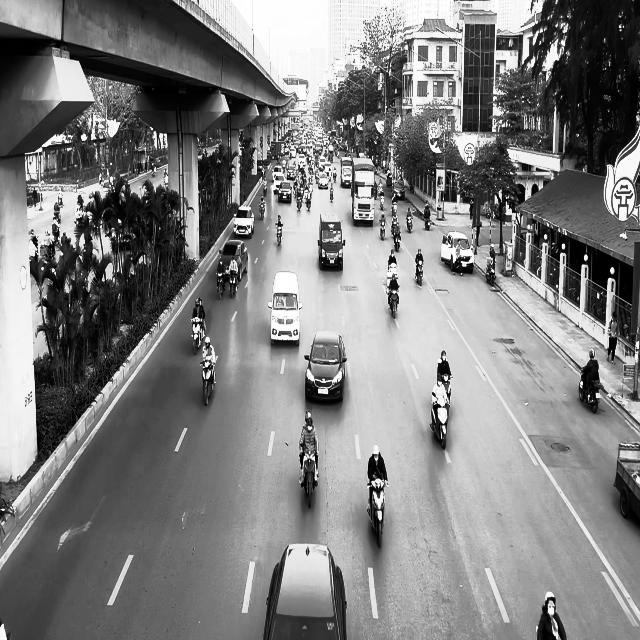bus: (351, 157, 375, 226)
car: (262, 542, 348, 640), (304, 331, 347, 402), (268, 271, 303, 346), (318, 213, 346, 271), (441, 231, 474, 274), (219, 240, 248, 282), (233, 206, 255, 238), (392, 180, 405, 200)
motorbike: (430, 375, 453, 449), (366, 478, 388, 548), (300, 448, 319, 508), (578, 368, 600, 413), (200, 355, 219, 405), (190, 316, 206, 354), (388, 284, 400, 318), (486, 257, 496, 285), (216, 272, 226, 299), (229, 271, 239, 297), (415, 260, 424, 286), (393, 230, 401, 250), (276, 224, 283, 246), (259, 200, 266, 219), (380, 219, 386, 240), (407, 214, 413, 233), (424, 214, 431, 230), (330, 186, 334, 202)
